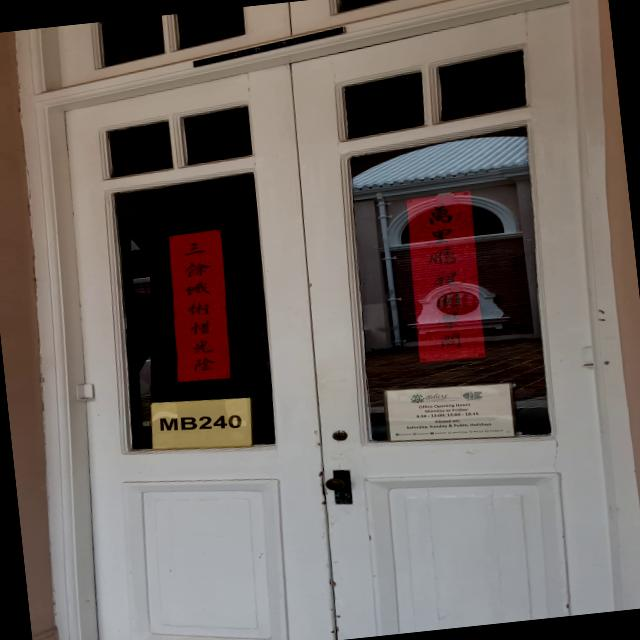room240: (148, 398, 248, 447)
